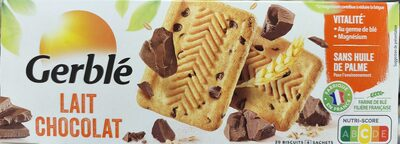Biscuit lait chocolat: (20, 7, 380, 137)
